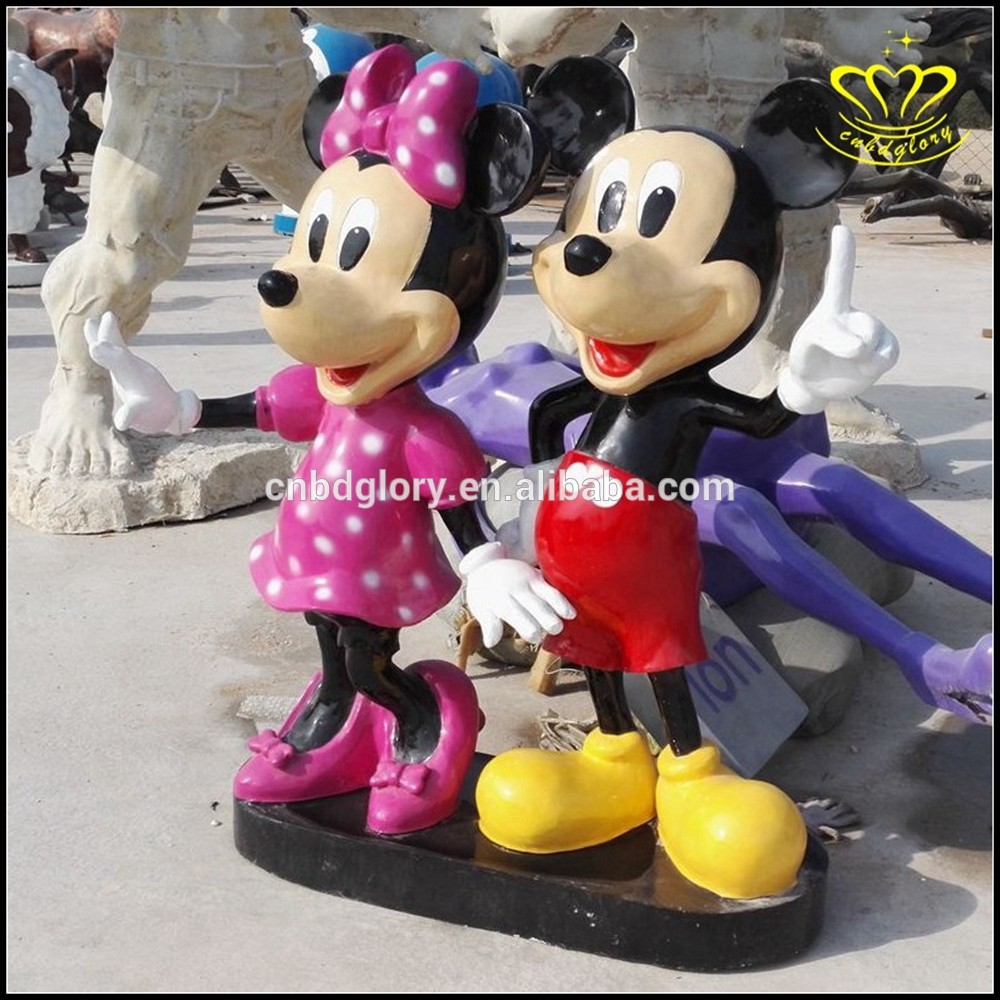Mickey: (522, 43, 853, 393)
